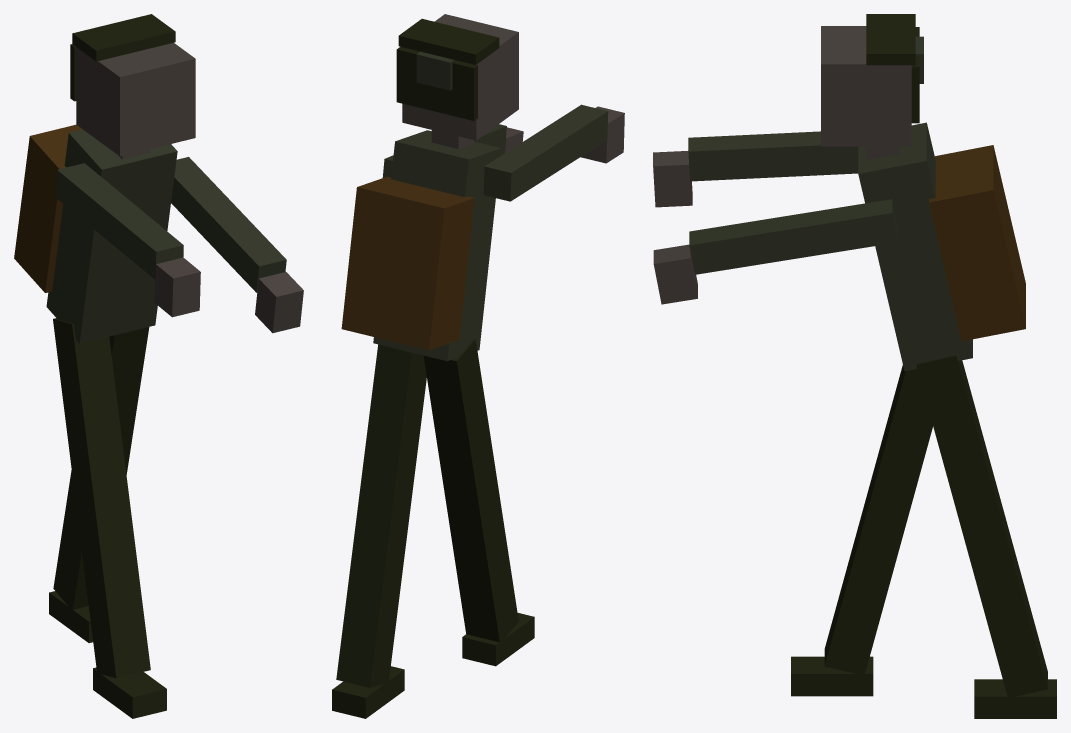
File: SM_ZombiFino_v1_Mochila_LOD0.fbx
3 renders of one model, left to right at view 1: azimuth 30°, elevation 25°; view 2: azimuth 150°, elevation 25°; view 3: azimuth 270°, elevation 25°, orthographic. The views are drawn at different scales.
Parts seen in each view (by area): view 1: SM_zombi_fino_v1_LOD0; view 2: SM_zombi_fino_v1_LOD0; view 3: SM_zombi_fino_v1_LOD0.
Part boxes in pixels (box(x1,y1,x2,y2)): SM_zombi_fino_v1_LOD0: box(14, 14, 303, 718); SM_zombi_fino_v1_LOD0: box(332, 14, 624, 718); SM_zombi_fino_v1_LOD0: box(653, 14, 1056, 718).
Size of the model in its own units: 0.38 by 1.78 by 0.9796.
